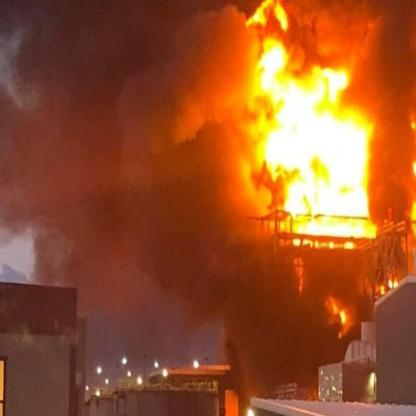fire: (243, 1, 382, 252), (322, 290, 356, 343), (408, 110, 416, 243), (292, 254, 309, 298), (373, 276, 401, 296)
